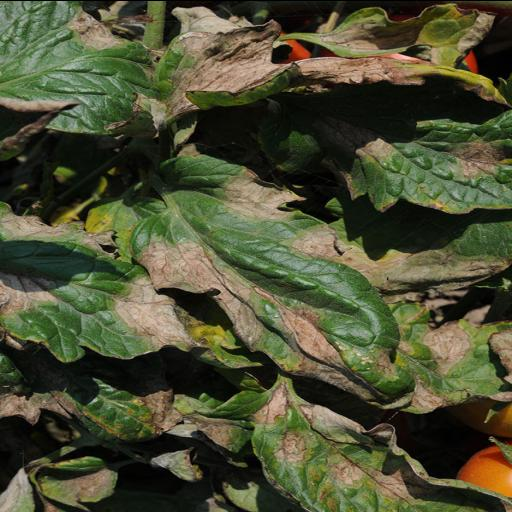disease_tomato: (136, 146, 432, 406), (192, 374, 512, 512), (150, 0, 424, 138), (10, 200, 208, 369), (3, 0, 154, 153), (339, 102, 512, 220)
